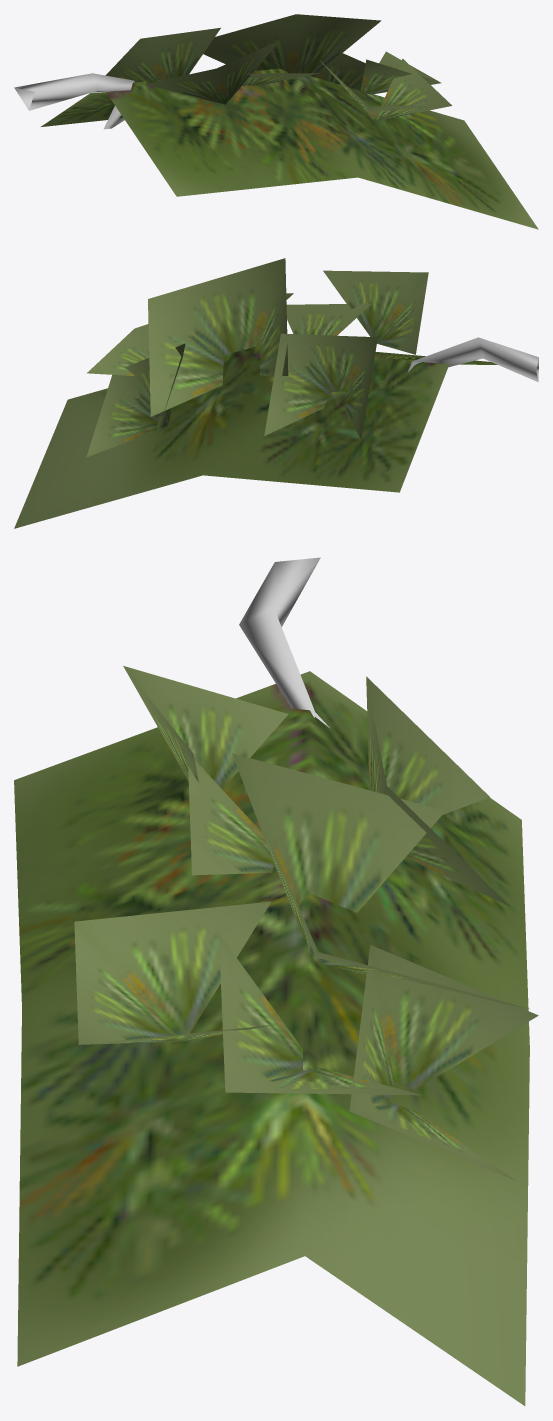
Rendered from JiaYeSiWai1_ShuSongZhi_2.FBX.
The picture shows the model from 3 angles, top to bottom: view 1: azimuth 30°, elevation 25°; view 2: azimuth 150°, elevation 25°; view 3: azimuth 270°, elevation 25°; orthographic projection. The views are drawn at different scales.
Parts seen in each view (by area): view 1: JiaYeSiWai1_ShuSongZhi_2a, JiaYeSiWai1_ShuSongZhi_2b; view 2: JiaYeSiWai1_ShuSongZhi_2a, JiaYeSiWai1_ShuSongZhi_2b; view 3: JiaYeSiWai1_ShuSongZhi_2a, JiaYeSiWai1_ShuSongZhi_2b.
Part boxes in pixels (<box>): JiaYeSiWai1_ShuSongZhi_2a: <box>41,14,538,229</box>; JiaYeSiWai1_ShuSongZhi_2b: <box>14,73,134,129</box>; JiaYeSiWai1_ShuSongZhi_2a: <box>14,258,497,528</box>; JiaYeSiWai1_ShuSongZhi_2b: <box>407,337,538,382</box>; JiaYeSiWai1_ShuSongZhi_2a: <box>14,666,538,1405</box>; JiaYeSiWai1_ShuSongZhi_2b: <box>239,557,329,727</box>.
Bounding box in the file's own units: 430 × 225 × 223.
